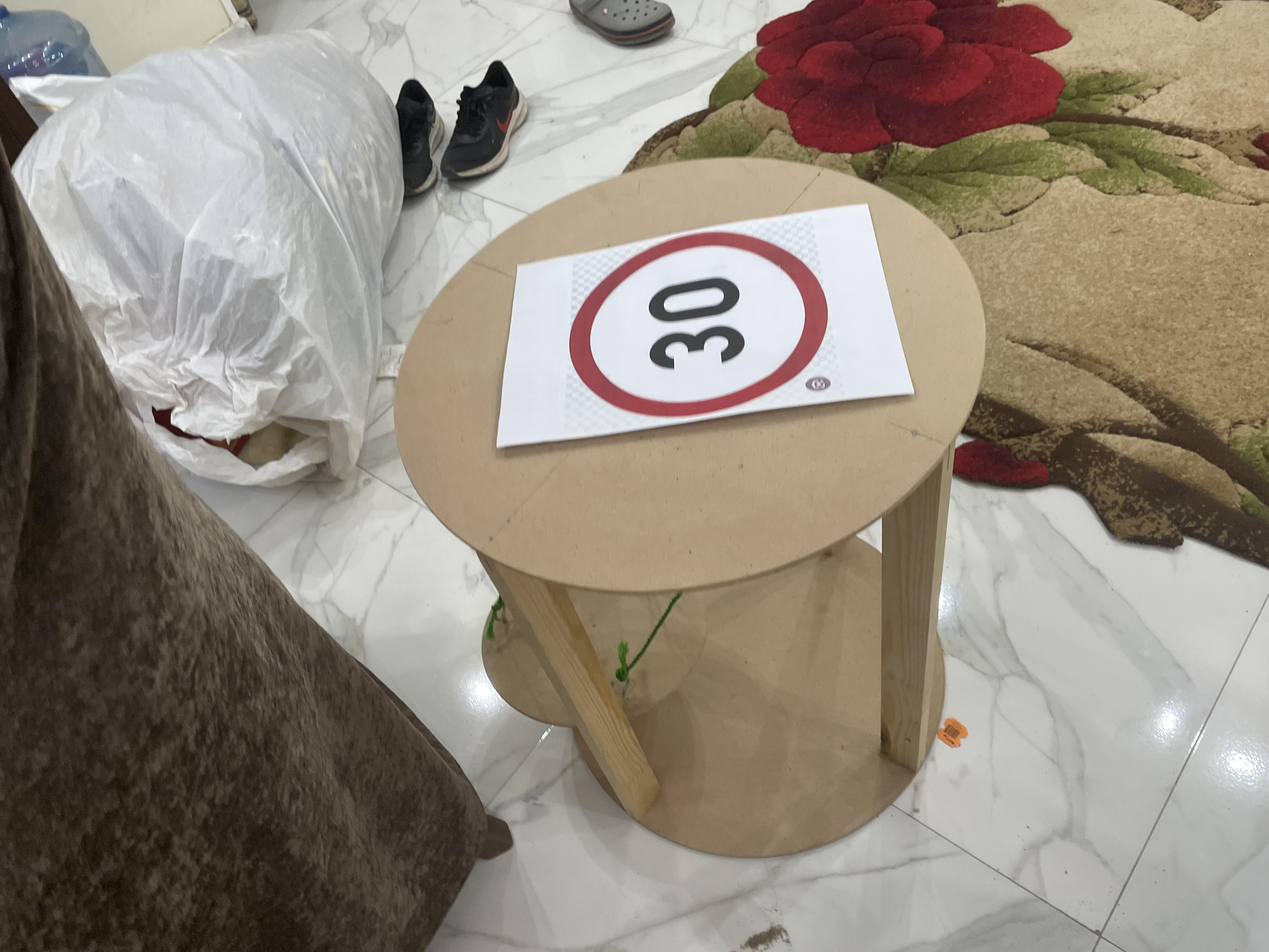30-speed: (567, 229, 830, 417)
